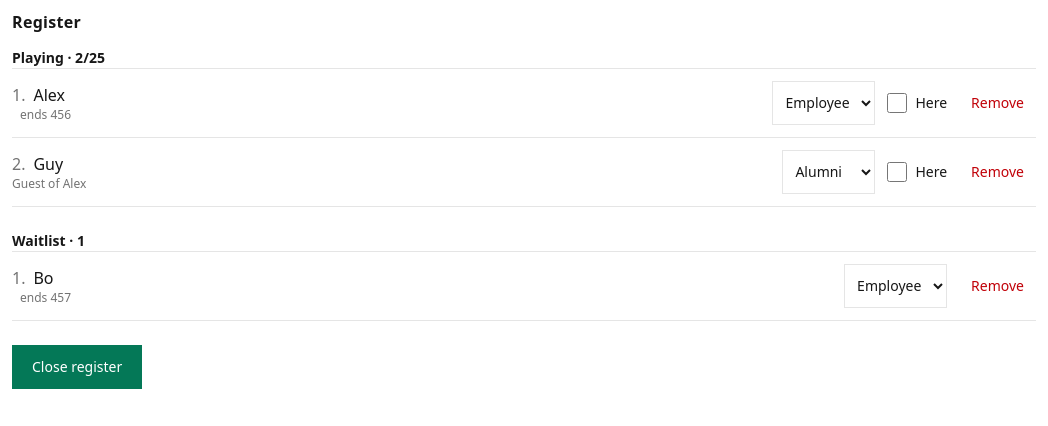
Scenario: Tier and Here › puts the Tier back and says why when the server refuses
Select "External" in the dropdown named "Tier for Alex" in the row of "ends 456" at (824, 103), box x1=772 y1=81 x2=875 y2=125
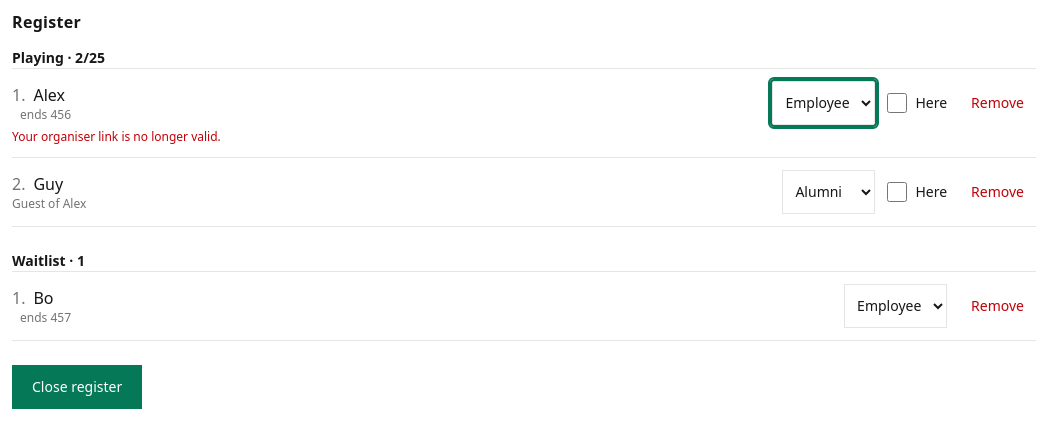
Expected: the message reads "Your organiser link is no longer valid.", x1=12 y1=128 x2=221 y2=145
